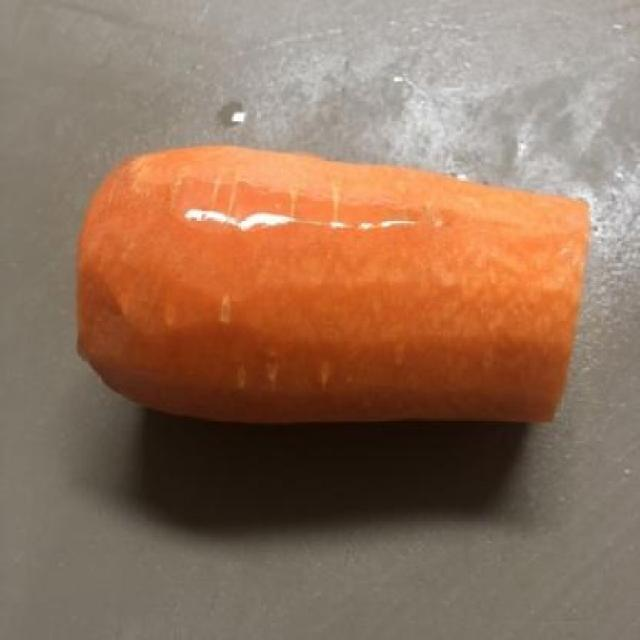carrot: (62, 131, 615, 431)
